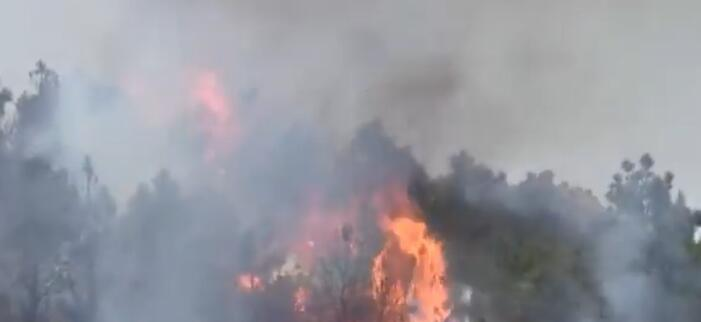fire: (237, 179, 456, 320), (191, 66, 243, 163)
smoke: (0, 1, 700, 316)
